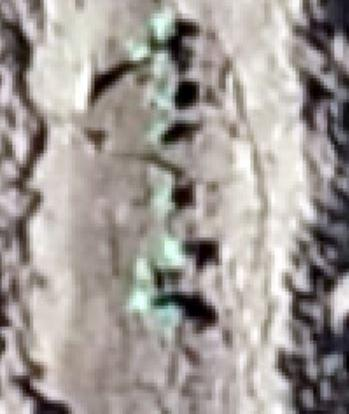cotton: (132, 288, 165, 321), (133, 257, 156, 281), (151, 13, 173, 37), (166, 237, 187, 259), (149, 53, 168, 71), (152, 122, 168, 137)
